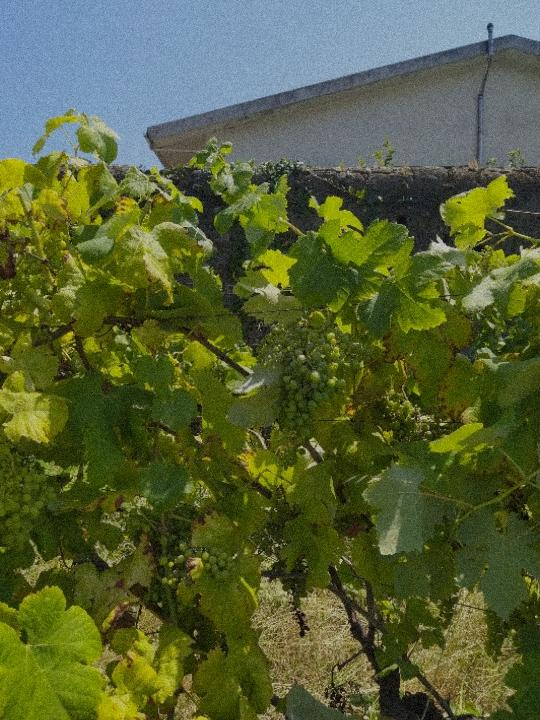grape: (271, 332, 346, 472), (0, 429, 58, 555)
